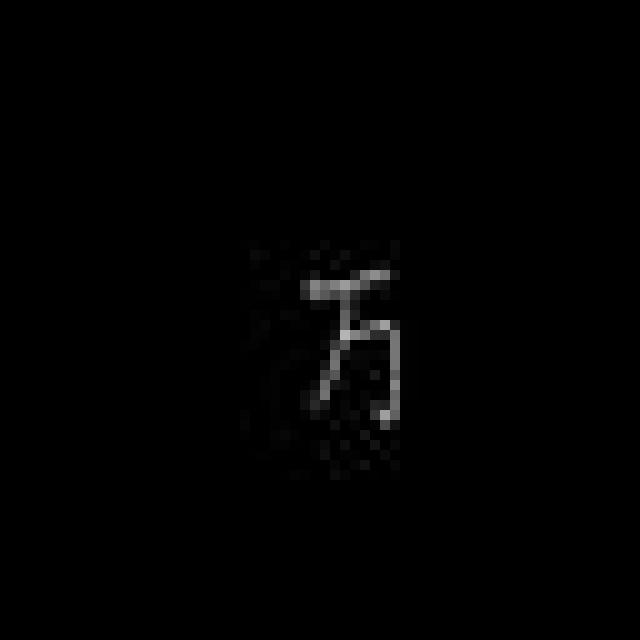10000 -a ten thousand-: (290, 251, 418, 439)
